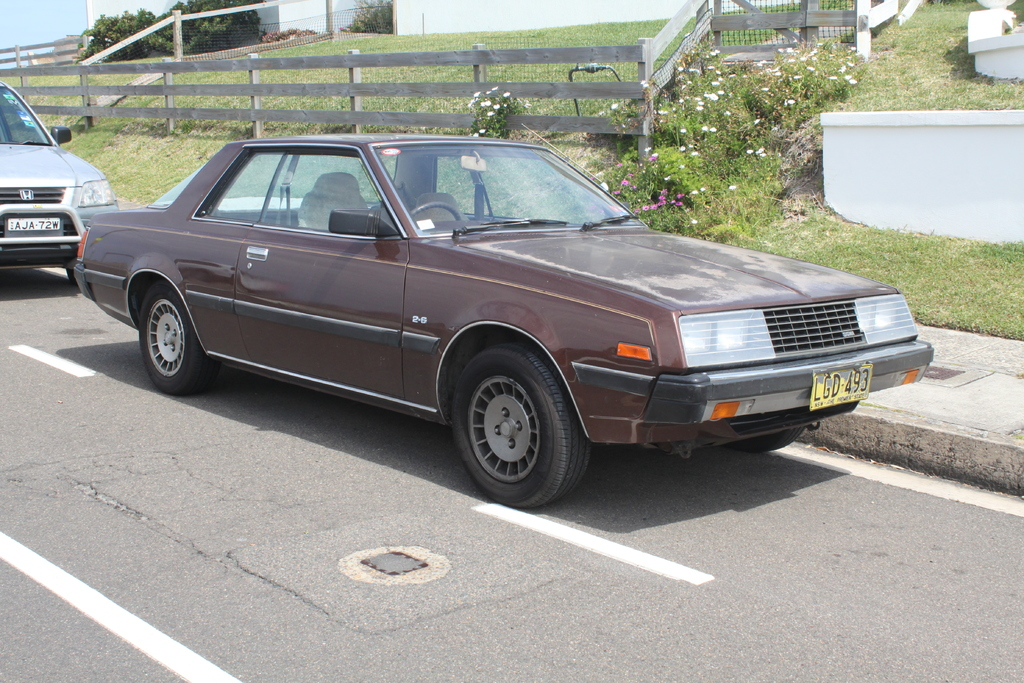Car: (71, 123, 934, 506), (0, 78, 118, 287)
